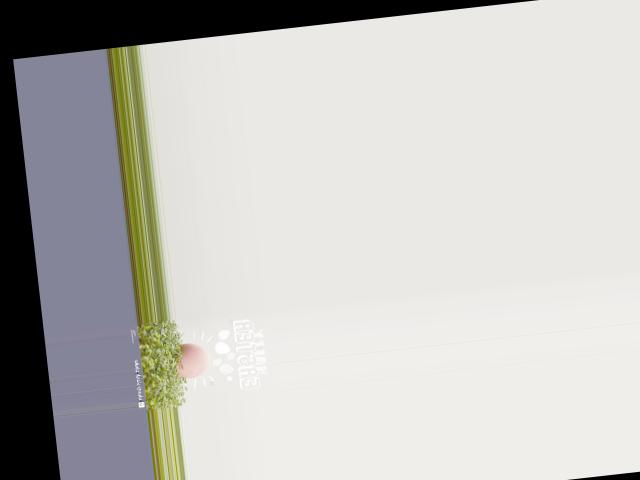egg: (174, 339, 211, 378)
